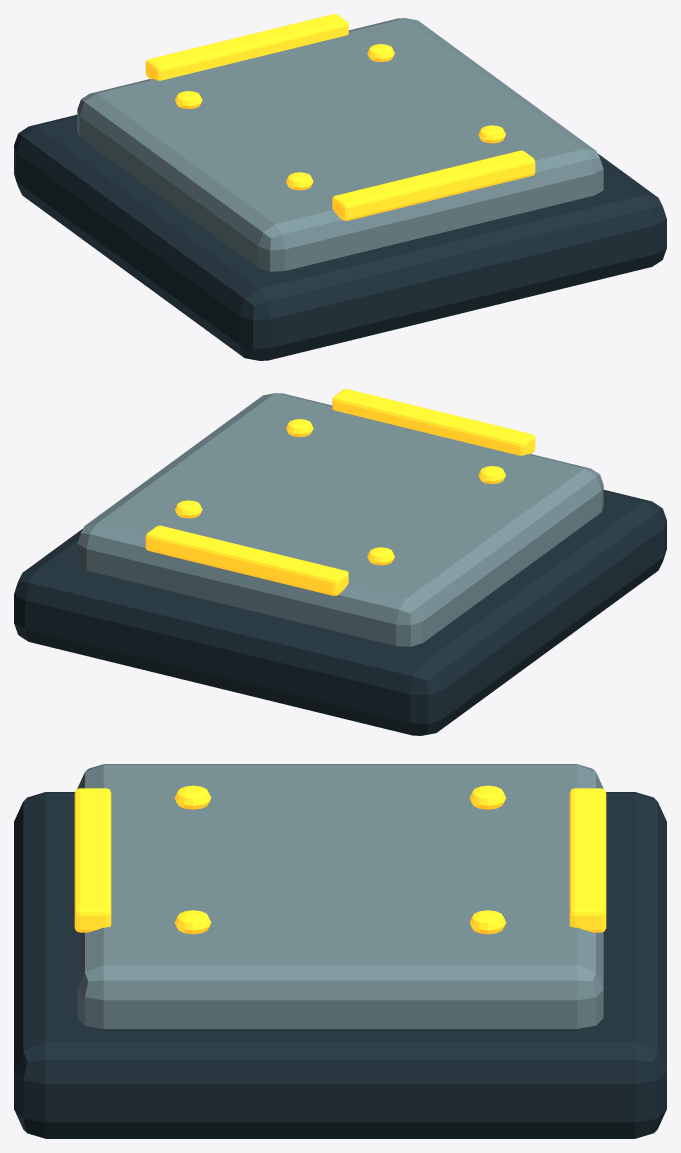
Rendered from Pressure-Plate.glb.
3 views of the same model, one above another, from view 1: azimuth 30°, elevation 25°; view 2: azimuth 150°, elevation 25°; view 3: azimuth 270°, elevation 25° (orthographic). The views are drawn at different scales.
Parts seen in each view (by area): view 1: Plate_Top, Plate_Base, Plate_GlowBar_A, Plate_GlowBar_B; view 2: Plate_Top, Plate_Base, Plate_GlowBar_B, Plate_GlowBar_A; view 3: Plate_Top, Plate_Base, Plate_GlowBar_A, Plate_GlowBar_B, Plate_Bolt, Plate_Bolt.001, Plate_Bolt.002, Plate_Bolt.003.
Boxes of the visible parts, x1=… form: Plate_Top: x1=77, y1=18, x2=603, y2=271; Plate_Base: x1=14, y1=114, x2=666, y2=360; Plate_GlowBar_A: x1=332, y1=150, x2=535, y2=220; Plate_GlowBar_B: x1=145, y1=14, x2=348, y2=80; Plate_Top: x1=77, y1=393, x2=603, y2=646; Plate_Base: x1=14, y1=489, x2=666, y2=735; Plate_GlowBar_B: x1=145, y1=525, x2=348, y2=595; Plate_GlowBar_A: x1=332, y1=389, x2=535, y2=455; Plate_Top: x1=77, y1=764, x2=603, y2=1028; Plate_Base: x1=14, y1=792, x2=666, y2=1138; Plate_GlowBar_A: x1=74, y1=788, x2=111, y2=932; Plate_GlowBar_B: x1=569, y1=788, x2=606, y2=932; Plate_Bolt: x1=174, y1=785, x2=211, y2=809; Plate_Bolt.001: x1=469, y1=785, x2=506, y2=809; Plate_Bolt.002: x1=174, y1=910, x2=211, y2=934; Plate_Bolt.003: x1=469, y1=910, x2=506, y2=934.
Bounding box in the file's own units: 1.24 × 0.345 × 1.24.
